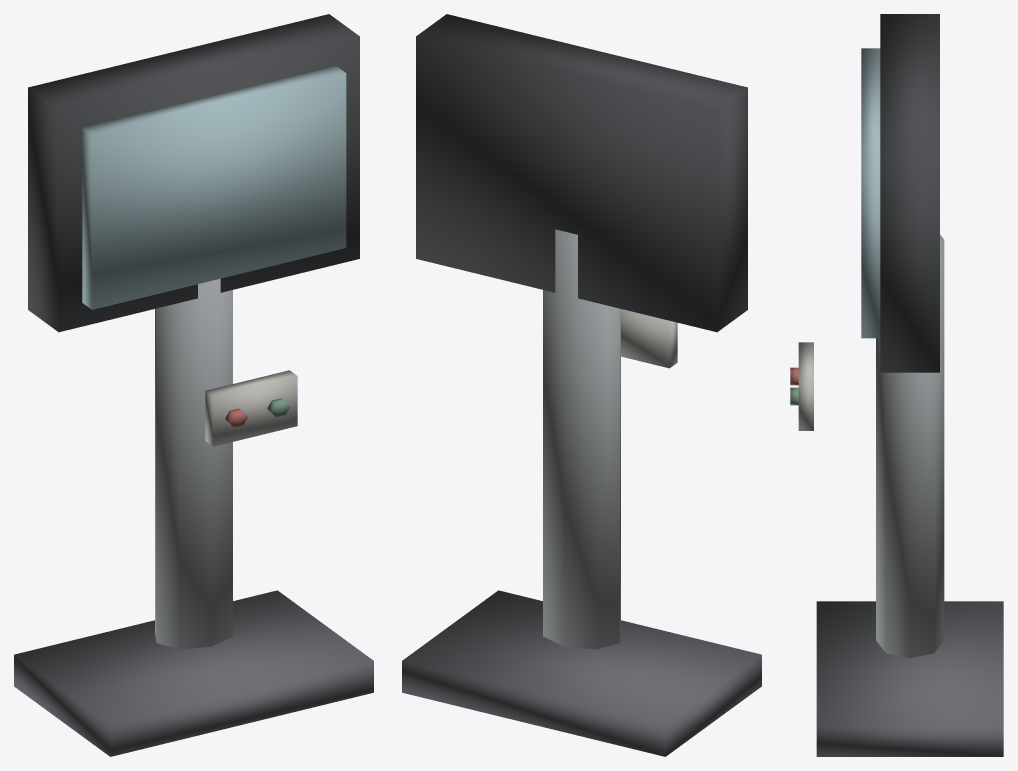
The model's file is pos_terminal__wide.glb.
The picture shows the model from 3 angles, left to right: view 1: azimuth 30°, elevation 25°; view 2: azimuth 150°, elevation 25°; view 3: azimuth 270°, elevation 25°; orthographic projection. The views are drawn at different scales.
Visible parts, largest first — view 1: world; view 2: world; view 3: world.
Boxes of the visible parts, <box> form: world: <box>14,14,373,756</box>; world: <box>402,14,761,756</box>; world: <box>790,14,1003,756</box>.
Bounding box in the file's own units: 0.3968 × 0.79 × 0.251.
